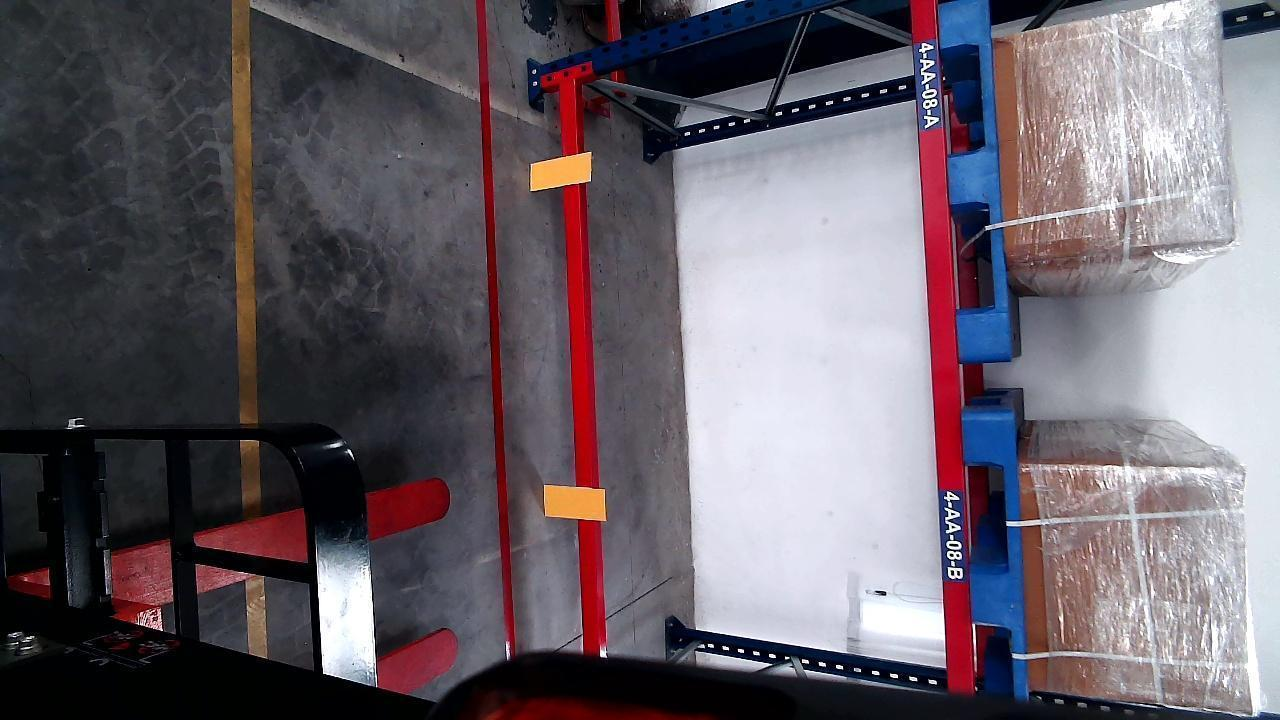yellow_line: (232, 2, 259, 424)
